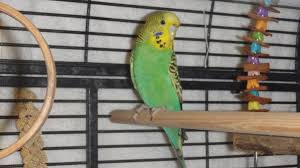budgie: (129, 10, 188, 168)
